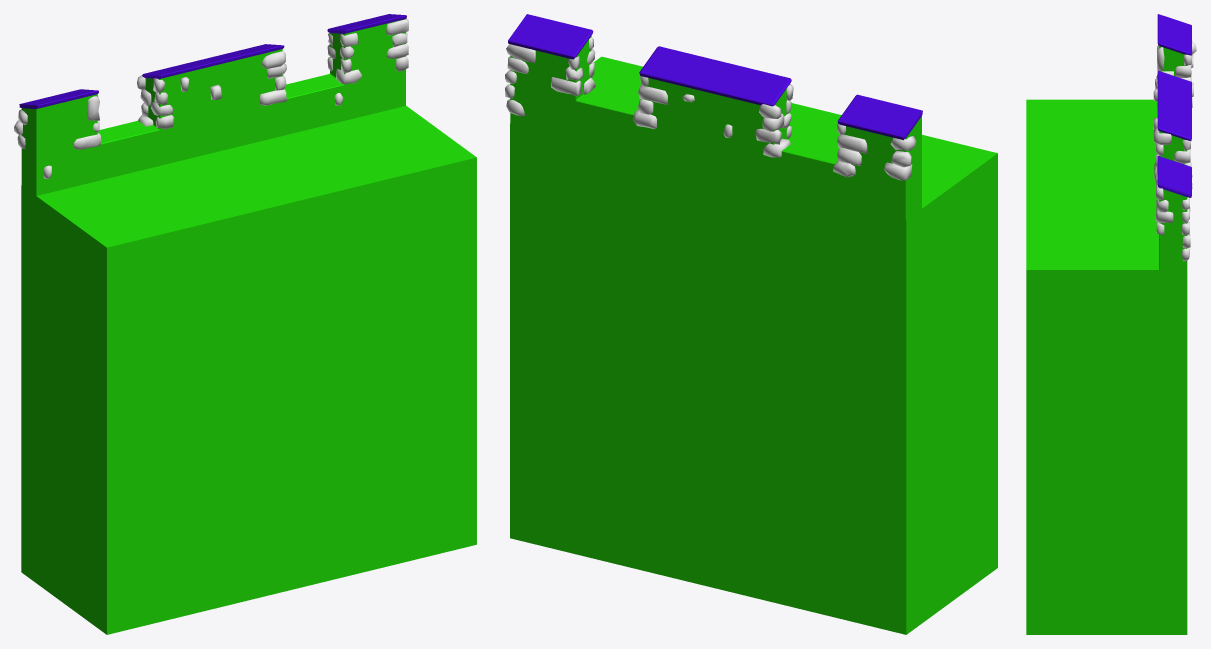
The model's file is Medieval Wall2.fbx.
The picture shows the model from 3 angles, left to right: view 1: azimuth 30°, elevation 25°; view 2: azimuth 150°, elevation 25°; view 3: azimuth 270°, elevation 25°; orthographic projection. The views are drawn at different scales.
Visible parts, largest first — view 1: Wall2; view 2: Wall2; view 3: Wall2.
Boxes of the visible parts, <box> form: Wall2: <box>14,14,476,634</box>; Wall2: <box>505,14,997,634</box>; Wall2: <box>1026,14,1196,634</box>.
Size of what is drawn, in the model's own units: 5.12 by 6.18 by 2.12.
